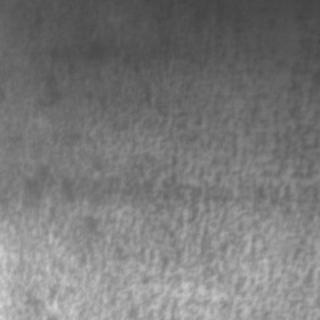pitted_surface: (15, 9, 315, 314)
